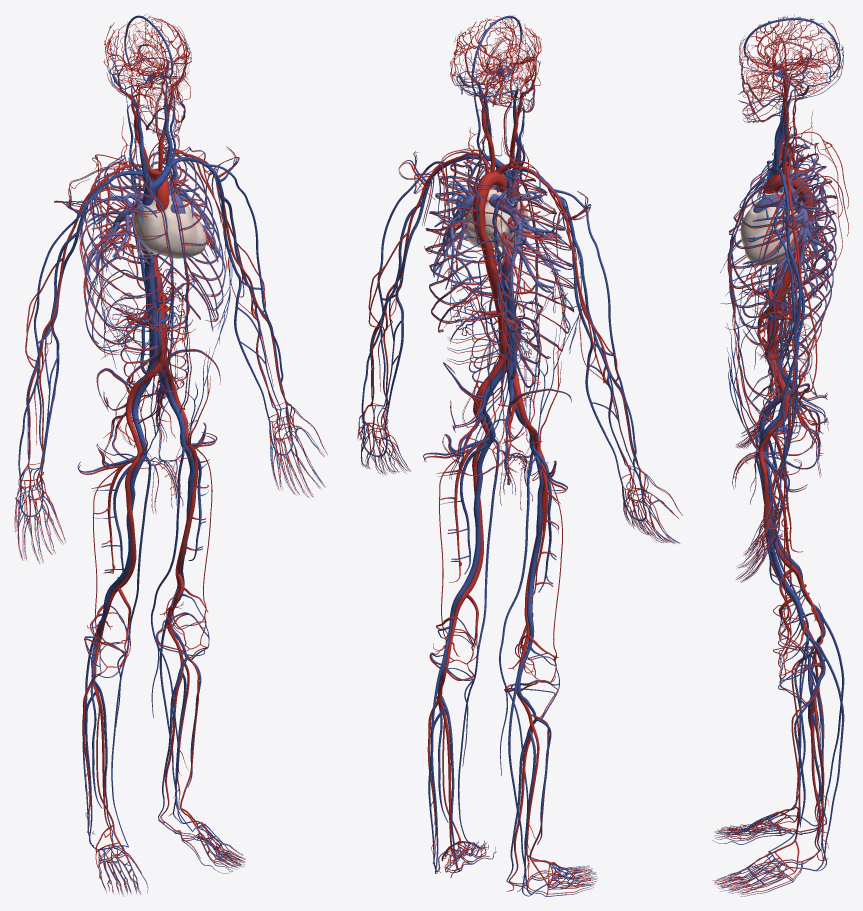
The model's file is adult_male.cardiovascular.LOD1.glb.
The picture shows the model from 3 angles, left to right: view 1: azimuth 30°, elevation 25°; view 2: azimuth 150°, elevation 25°; view 3: azimuth 270°, elevation 25°; orthographic projection. The views are drawn at different scales.
Visible parts, largest first — view 1: ADULT.MALE.CARDIOVASCULAR.PERICARDIUM, ADULT.MALE.CARDIOVASCULAR.RIGHT_SUPERIOR_INTERCOSTAL_VEIN, ADULT.MALE.CARDIOVASCULAR.POSTERIOR_INTERCOSTAL_ARTERIES.R, ADULT.MALE.CARDIOVASCULAR.LEFT_SUPERIOR_INTERCOSTAL_VEIN, ADULT.MALE.CARDIOVASCULAR.GREAT_SAPHENOUS_VEIN.L, ADULT.MALE.CARDIOVASCULAR.GREAT_SAPHENOUS_VEIN.R, ADULT.MALE.CARDIOVASCULAR.FEMORAL_ARTERY.R, ADULT.MALE.CARDIOVASCULAR.POSTERIOR_INTERCOSTAL_ARTERIES.L, ADULT.MALE.CARDIOVASCULAR.CEPHALIC_VEIN.R, ADULT.MALE.CARDIOVASCULAR.FEMORAL_ARTERY.L, ADULT.MALE.CARDIOVASCULAR.CEPHALIC_VEIN.L, ADULT.MALE.CARDIOVASCULAR.FEMORAL_VEIN.R (+1 smaller); view 2: ADULT.MALE.CARDIOVASCULAR.POSTERIOR_INTERCOSTAL_ARTERIES.R, ADULT.MALE.CARDIOVASCULAR.RIGHT_SUPERIOR_INTERCOSTAL_VEIN, ADULT.MALE.CARDIOVASCULAR.LEFT_SUPERIOR_INTERCOSTAL_VEIN, ADULT.MALE.CARDIOVASCULAR.POSTERIOR_INTERCOSTAL_ARTERIES.L, ADULT.MALE.CARDIOVASCULAR.GREAT_SAPHENOUS_VEIN.L, ADULT.MALE.CARDIOVASCULAR.PERICARDIUM, ADULT.MALE.CARDIOVASCULAR.GREAT_SAPHENOUS_VEIN.R, ADULT.MALE.CARDIOVASCULAR.FEMORAL_VEIN.L, ADULT.MALE.CARDIOVASCULAR.FEMORAL_VEIN.R, ADULT.MALE.CARDIOVASCULAR.CEPHALIC_VEIN.R, ADULT.MALE.CARDIOVASCULAR.THORACIC_AORTA, ADULT.MALE.CARDIOVASCULAR.BASILIC_VEIN.R (+5 smaller); view 3: ADULT.MALE.CARDIOVASCULAR.LEFT_SUPERIOR_INTERCOSTAL_VEIN, ADULT.MALE.CARDIOVASCULAR.PERICARDIUM, ADULT.MALE.CARDIOVASCULAR.POSTERIOR_INTERCOSTAL_ARTERIES.L, ADULT.MALE.CARDIOVASCULAR.CEPHALIC_VEIN.L, ADULT.MALE.CARDIOVASCULAR.RIGHT_SUPERIOR_INTERCOSTAL_VEIN, ADULT.MALE.CARDIOVASCULAR.SMALL_SAPHENOUS_VEIN.L, ADULT.MALE.CARDIOVASCULAR.FEMORAL_ARTERY.L, ADULT.MALE.CARDIOVASCULAR.GREAT_SAPHENOUS_VEIN.R, ADULT.MALE.CARDIOVASCULAR.ABDOMINAL_AORTA, ADULT.MALE.CARDIOVASCULAR.GREAT_SAPHENOUS_VEIN.L, ADULT.MALE.CARDIOVASCULAR.SMALL_SAPHENOUS_VEIN.R, ADULT.MALE.CARDIOVASCULAR.POSTERIOR_INTERCOSTAL_ARTERIES.R (+22 smaller).
Part boxes in pixels (<box>): ADULT.MALE.CARDIOVASCULAR.PERICARDIUM: <box>133,195,206,258</box>; ADULT.MALE.CARDIOVASCULAR.RIGHT_SUPERIOR_INTERCOSTAL_VEIN: <box>81,155,172,351</box>; ADULT.MALE.CARDIOVASCULAR.POSTERIOR_INTERCOSTAL_ARTERIES.R: <box>79,163,169,354</box>; ADULT.MALE.CARDIOVASCULAR.LEFT_SUPERIOR_INTERCOSTAL_VEIN: <box>144,147,225,330</box>; ADULT.MALE.CARDIOVASCULAR.GREAT_SAPHENOUS_VEIN.L: <box>151,447,192,831</box>; ADULT.MALE.CARDIOVASCULAR.GREAT_SAPHENOUS_VEIN.R: <box>111,456,151,846</box>; ADULT.MALE.CARDIOVASCULAR.FEMORAL_ARTERY.R: <box>115,431,142,590</box>; ADULT.MALE.CARDIOVASCULAR.POSTERIOR_INTERCOSTAL_ARTERIES.L: <box>149,153,225,331</box>; ADULT.MALE.CARDIOVASCULAR.CEPHALIC_VEIN.R: <box>18,187,101,488</box>; ADULT.MALE.CARDIOVASCULAR.FEMORAL_ARTERY.L: <box>175,418,198,575</box>; ADULT.MALE.CARDIOVASCULAR.CEPHALIC_VEIN.L: <box>202,162,289,422</box>; ADULT.MALE.CARDIOVASCULAR.FEMORAL_VEIN.R: <box>112,438,147,588</box>; ADULT.MALE.CARDIOVASCULAR.POSTERIOR_INTERCOSTAL_ARTERIES.R: <box>478,187,574,358</box>; ADULT.MALE.CARDIOVASCULAR.RIGHT_SUPERIOR_INTERCOSTAL_VEIN: <box>492,170,574,357</box>; ADULT.MALE.CARDIOVASCULAR.LEFT_SUPERIOR_INTERCOSTAL_VEIN: <box>425,156,502,331</box>; ADULT.MALE.CARDIOVASCULAR.POSTERIOR_INTERCOSTAL_ARTERIES.L: <box>425,177,501,332</box>; ADULT.MALE.CARDIOVASCULAR.GREAT_SAPHENOUS_VEIN.L: <box>458,439,499,844</box>; ADULT.MALE.CARDIOVASCULAR.PERICARDIUM: <box>464,187,529,251</box>; ADULT.MALE.CARDIOVASCULAR.GREAT_SAPHENOUS_VEIN.R: <box>499,451,539,859</box>; ADULT.MALE.CARDIOVASCULAR.FEMORAL_VEIN.L: <box>459,423,495,594</box>; ADULT.MALE.CARDIOVASCULAR.FEMORAL_VEIN.R: <box>527,435,543,610</box>; ADULT.MALE.CARDIOVASCULAR.CEPHALIC_VEIN.R: <box>554,189,643,496</box>; ADULT.MALE.CARDIOVASCULAR.THORACIC_AORTA: <box>472,196,497,275</box>; ADULT.MALE.CARDIOVASCULAR.BASILIC_VEIN.R: <box>572,238,622,483</box>; ADULT.MALE.CARDIOVASCULAR.LEFT_SUPERIOR_INTERCOSTAL_VEIN: <box>729,163,836,358</box>; ADULT.MALE.CARDIOVASCULAR.PERICARDIUM: <box>740,190,800,265</box>; ADULT.MALE.CARDIOVASCULAR.POSTERIOR_INTERCOSTAL_ARTERIES.L: <box>729,175,836,359</box>; ADULT.MALE.CARDIOVASCULAR.CEPHALIC_VEIN.L: <box>774,197,796,519</box>; ADULT.MALE.CARDIOVASCULAR.RIGHT_SUPERIOR_INTERCOSTAL_VEIN: <box>729,144,836,304</box>; ADULT.MALE.CARDIOVASCULAR.SMALL_SAPHENOUS_VEIN.L: <box>803,640,844,871</box>; ADULT.MALE.CARDIOVASCULAR.FEMORAL_ARTERY.L: <box>759,431,793,601</box>; ADULT.MALE.CARDIOVASCULAR.GREAT_SAPHENOUS_VEIN.R: <box>755,432,820,820</box>; ADULT.MALE.CARDIOVASCULAR.ABDOMINAL_AORTA: <box>764,266,793,354</box>; ADULT.MALE.CARDIOVASCULAR.GREAT_SAPHENOUS_VEIN.L: <box>755,451,820,851</box>; ADULT.MALE.CARDIOVASCULAR.SMALL_SAPHENOUS_VEIN.R: <box>803,604,844,826</box>; ADULT.MALE.CARDIOVASCULAR.POSTERIOR_INTERCOSTAL_ARTERIES.R: <box>729,153,836,308</box>.
Bounding box in the file's own units: 0.664 × 1.7 × 0.2489.
